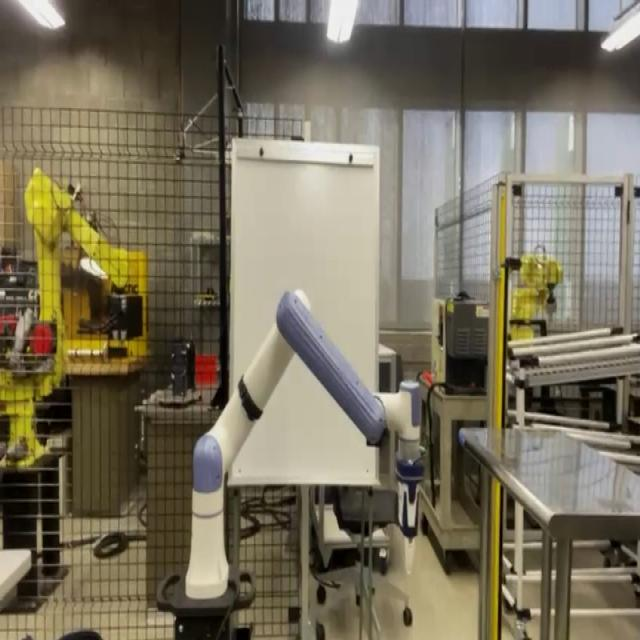robot: (156, 286, 424, 638)
